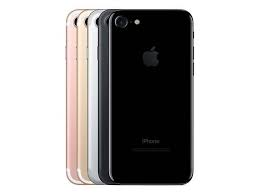iphone: (106, 5, 194, 188)
